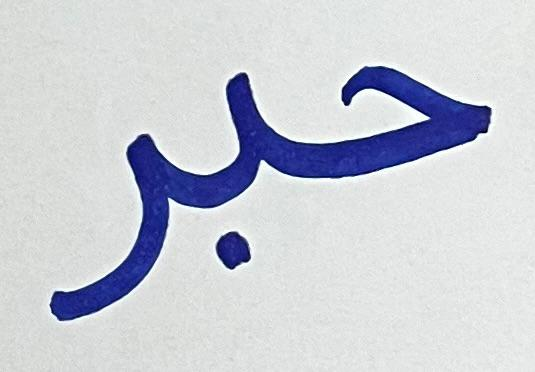beh: (166, 82, 278, 281)
hah: (297, 40, 502, 183)
reh: (39, 136, 170, 328)
